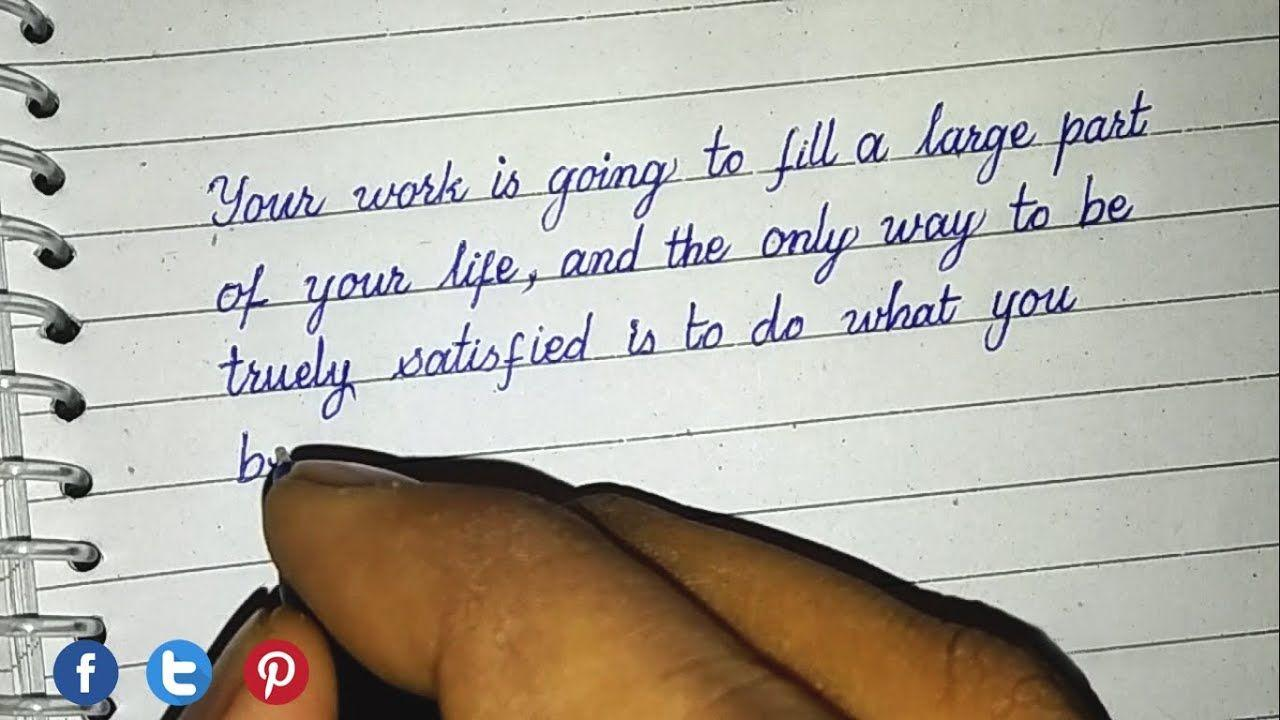text: (212, 170, 1139, 331), (204, 85, 1156, 233), (216, 275, 1083, 425), (227, 428, 278, 488), (256, 650, 296, 703), (159, 650, 198, 700), (73, 652, 99, 695)
